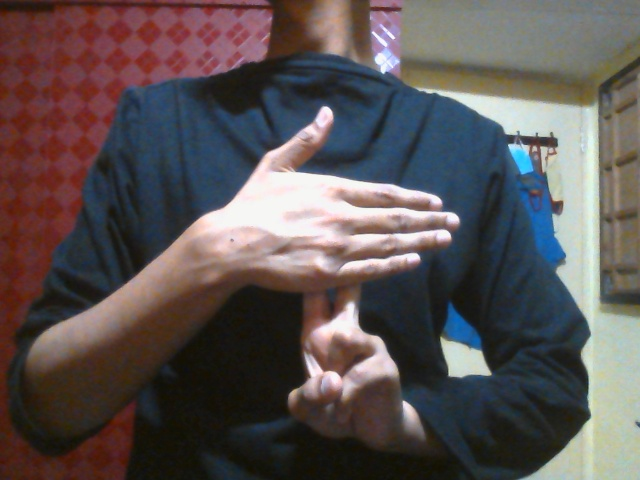N: (229, 104, 462, 457)
